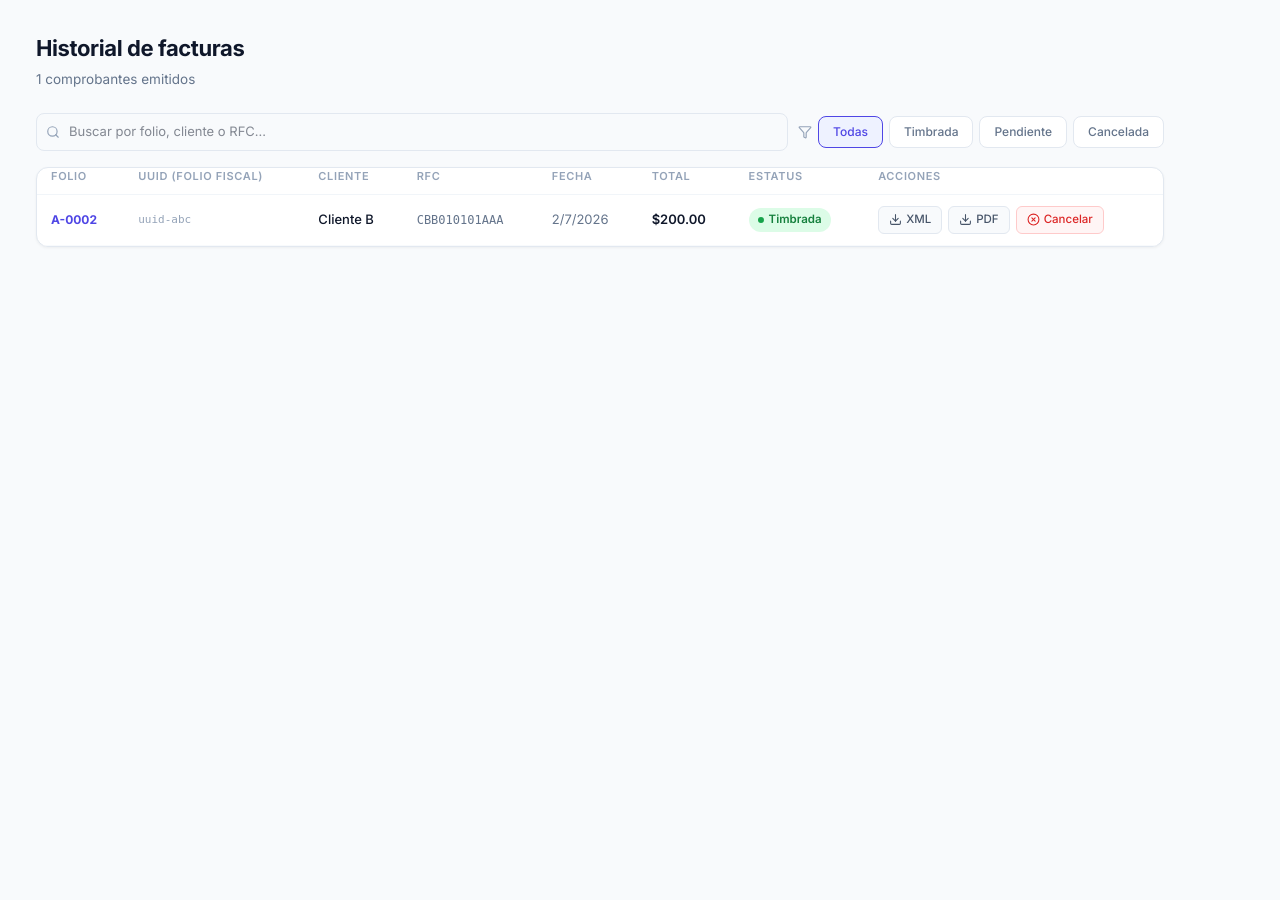
Test case: Historial - acciones por estatus › Cancelar en una factura timbrada abre el modal de motivo y exige UUID de sustitución solo para motivo 01
Click the button "Cancelar" at (1060, 220), box [1016, 206, 1104, 234]
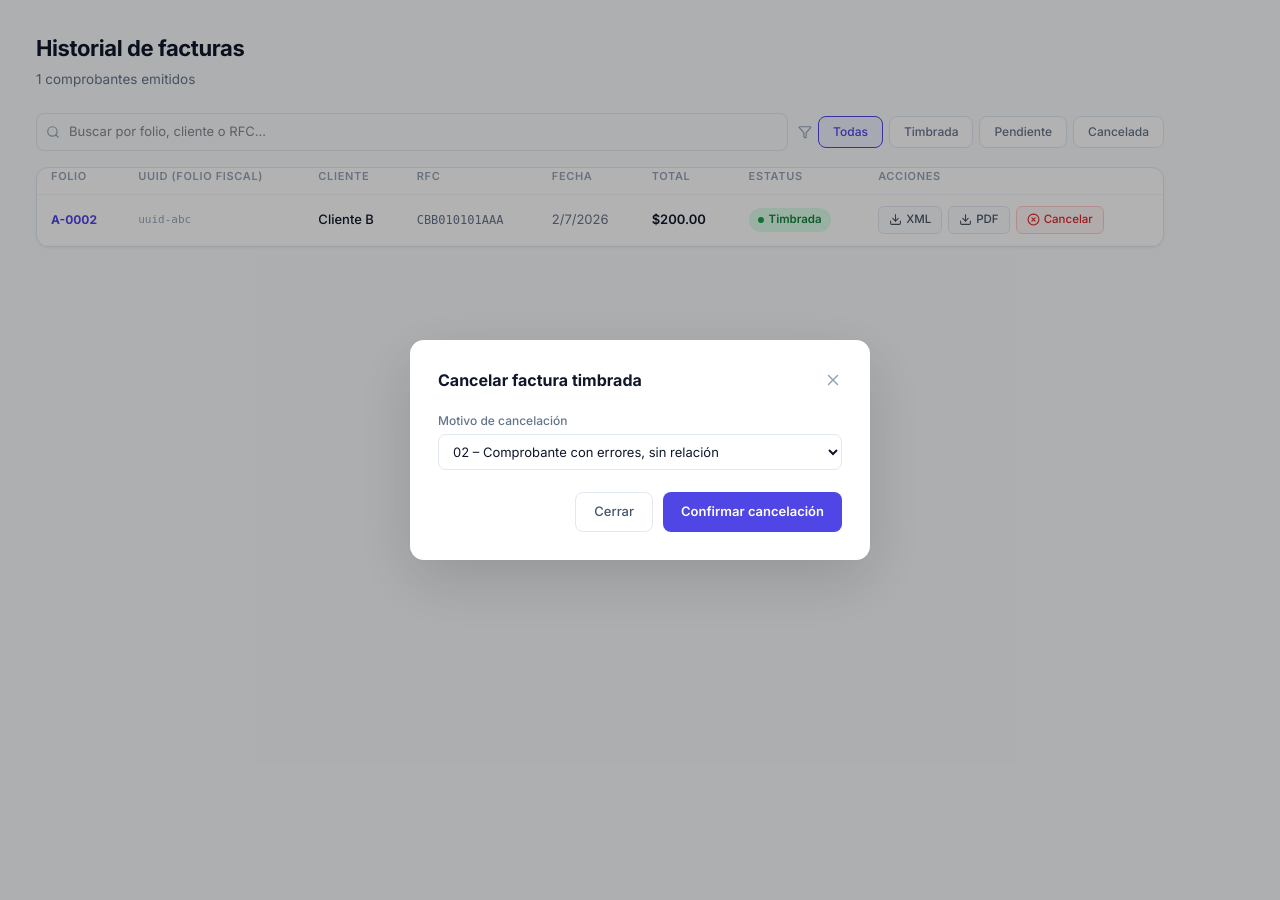
Expected: the field with placeholder "UUID de sustitución" is not shown
Expected: the heading "Cancelar factura timbrada" is shown, [438, 368, 642, 392]
Select "01 – Comprobante con errores, con relación" in the dropdown labelled "Motivo de cancelación" at (640, 452), box [438, 434, 842, 470]
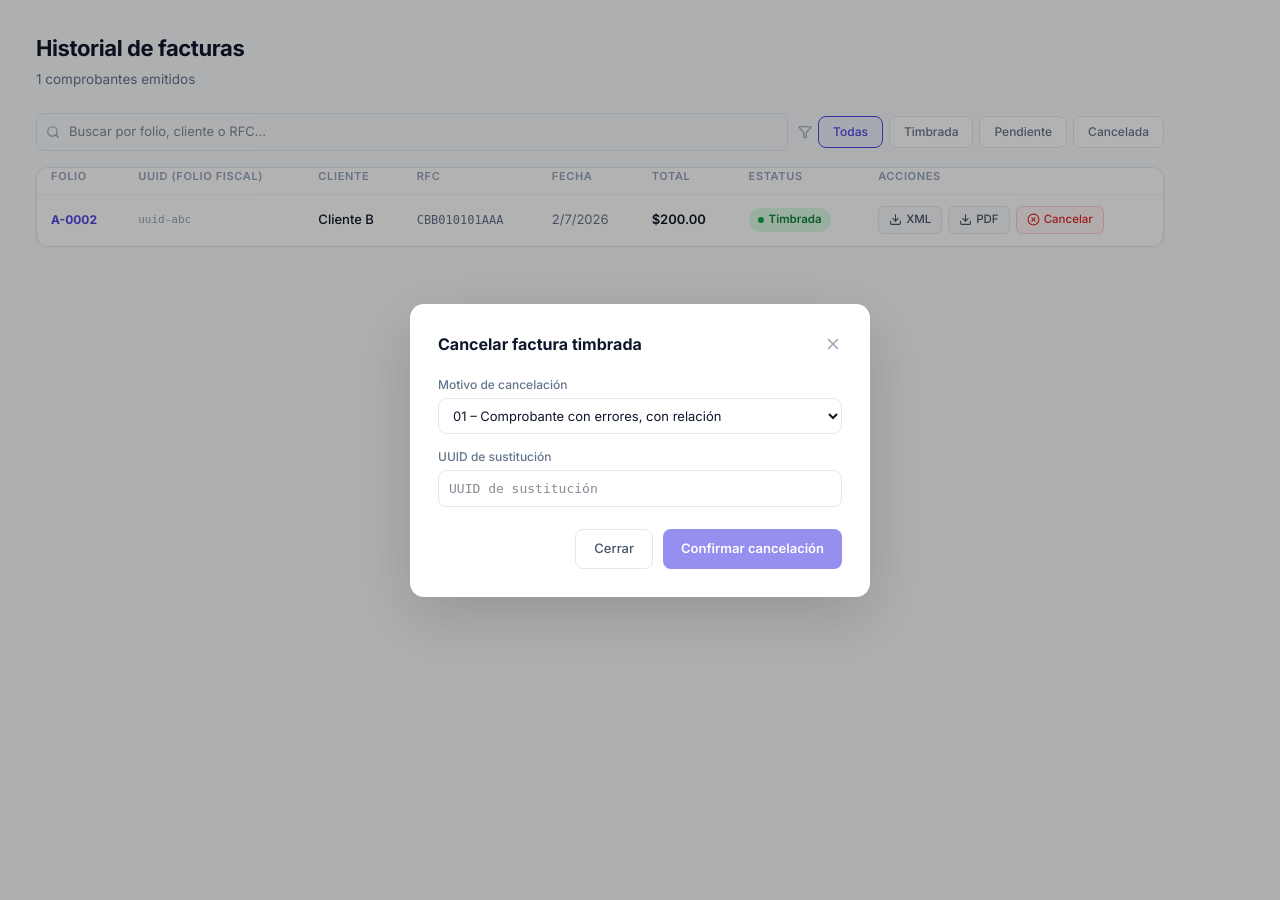
Expected: the field with placeholder "UUID de sustitución" is shown, [438, 470, 842, 507]
